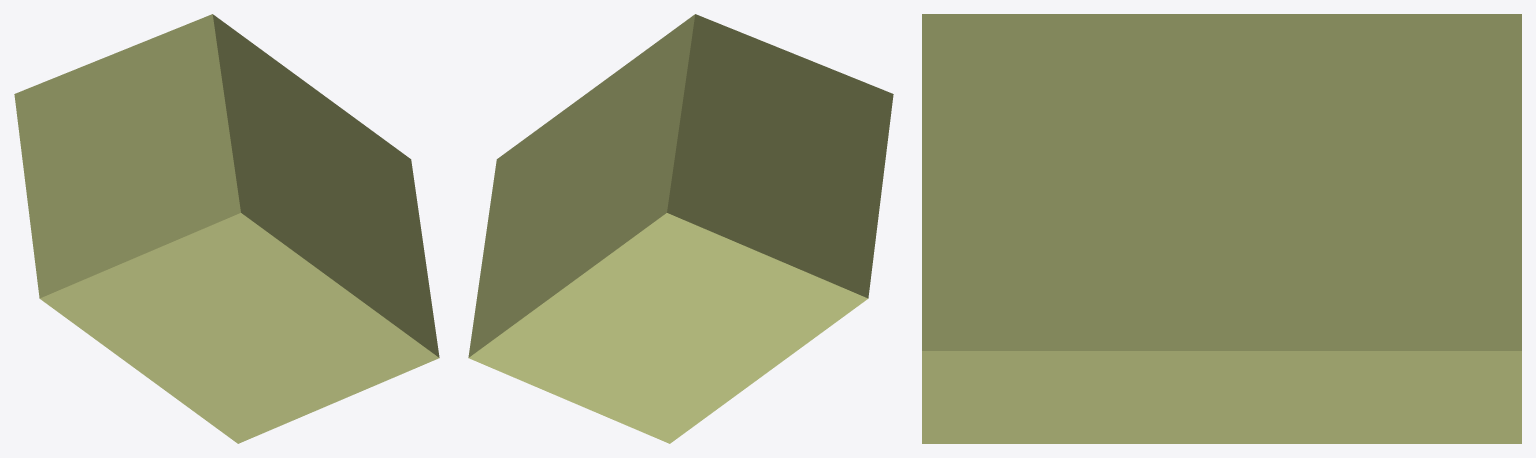
3 renders of one model, left to right at view 1: azimuth 30°, elevation 25°; view 2: azimuth 150°, elevation 25°; view 3: azimuth 270°, elevation 25°, orthographic. The views are drawn at different scales.
Parts seen in each view (by area): view 1: 0_1_2_0_0_2_2_0_2_1_0_3; view 2: 0_1_2_0_0_2_2_0_2_1_0_3; view 3: 0_1_2_0_0_2_2_0_2_1_0_3.
Boxes of the visible parts, left/top/right/bottom form: 0_1_2_0_0_2_2_0_2_1_0_3: left=14, top=14, right=439, bottom=443; 0_1_2_0_0_2_2_0_2_1_0_3: left=468, top=14, right=893, bottom=443; 0_1_2_0_0_2_2_0_2_1_0_3: left=922, top=14, right=1521, bottom=443.
Size of the model in its own units: 3.95 by 4.04 by 6.
